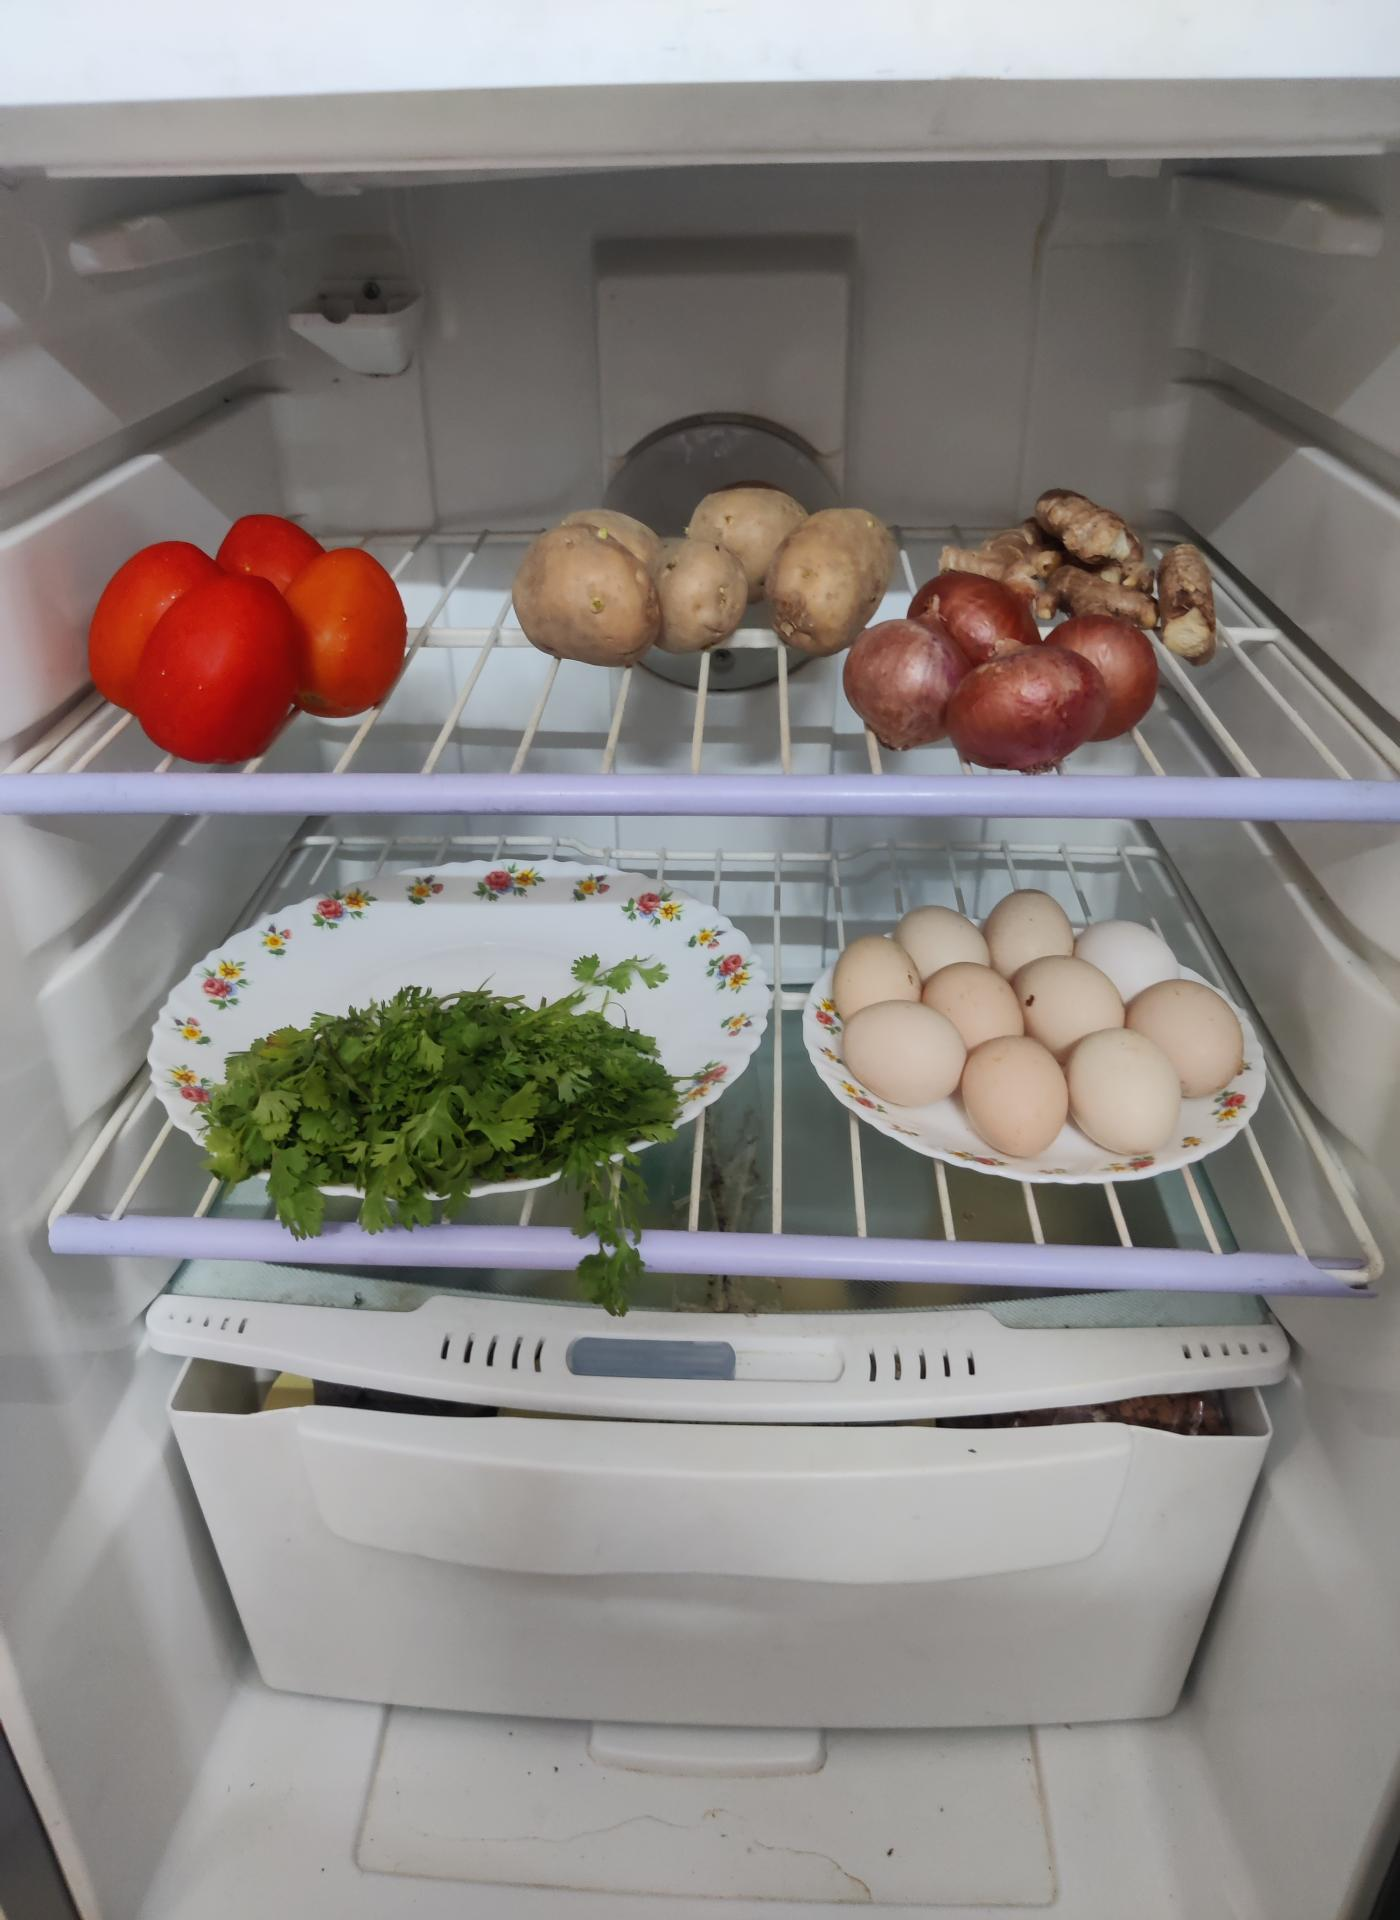coriander: (197, 985, 693, 1216)
egg: (808, 906, 1243, 1176)
ginger: (856, 476, 1227, 654)
onion: (850, 587, 1170, 763)
potato: (517, 487, 912, 672)
tomato: (92, 513, 414, 763)
